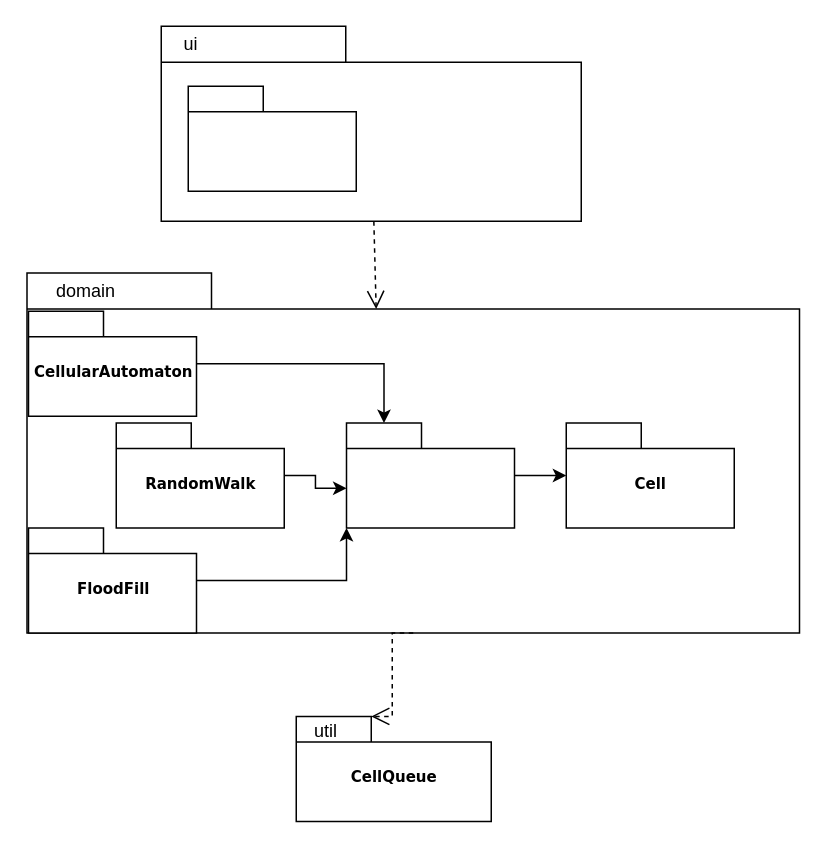
This 825x849 diagram has some shape labels left out. Each missing label, with the centre of its shape:
"Dungeon" belongs at point (429, 475).
"GUI" belongs at point (271, 138).
